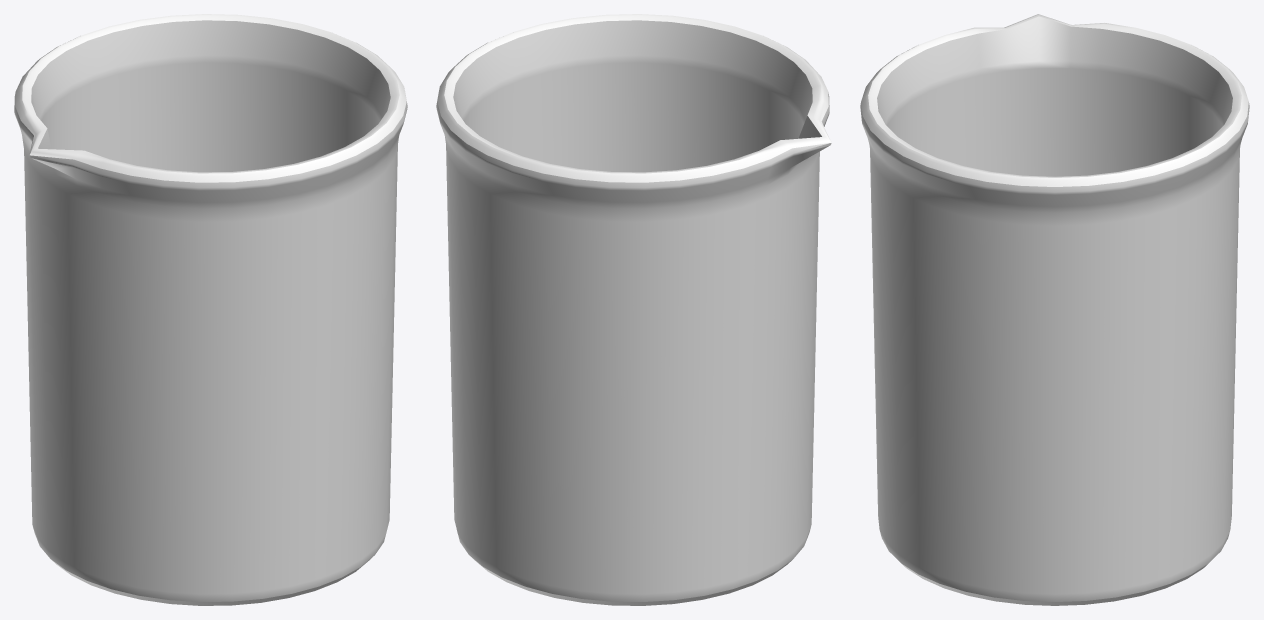
The model's file is beaker.glb.
3 views of the same model, side by side, from view 1: azimuth 30°, elevation 25°; view 2: azimuth 150°, elevation 25°; view 3: azimuth 270°, elevation 25° (orthographic).
Visible parts, largest first — view 1: Beaker1; view 2: Beaker1; view 3: Beaker1.
Part boxes in pixels (x1,y1,x2,y2): Beaker1: (14, 14, 407, 605); Beaker1: (436, 14, 831, 605); Beaker1: (860, 14, 1249, 605).
Bounding box in the file's own units: 0.1096 × 0.1287 × 0.1037.
Materials: 1 (1 with a texture image).
